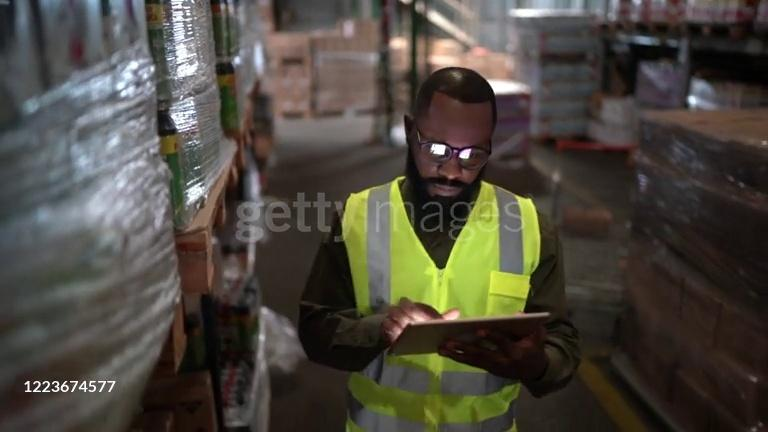person: (291, 64, 591, 429)
